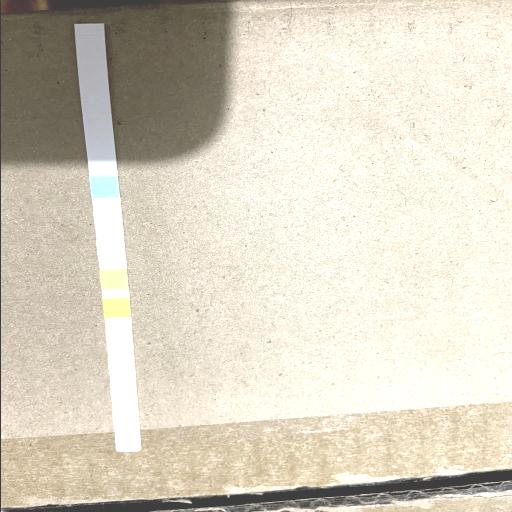Bilirubin: (94, 210, 121, 230)
Blood: (103, 299, 129, 317)
Glucose: (90, 176, 118, 198)
Ketone: (96, 240, 124, 260)
Leukocytes: (115, 434, 140, 450)
Nitrite: (112, 408, 136, 424)
Protein: (108, 355, 133, 372)
SpGravity: (100, 270, 126, 289)
Urobilinogen: (110, 382, 135, 398)
pH: (105, 326, 131, 344)
strip: (73, 23, 141, 452)
